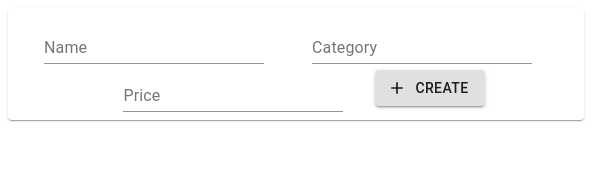
Test: ensure error messages are displayed if values are not provided to the text boxes
Click the button titled "Add Item": (430, 88) [375,70,484,106]
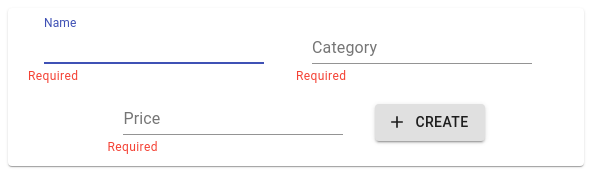
Expected: the text "Required" is shown 3 times, [28,69,78,83]; [296,69,346,83]; [107,140,158,154]
